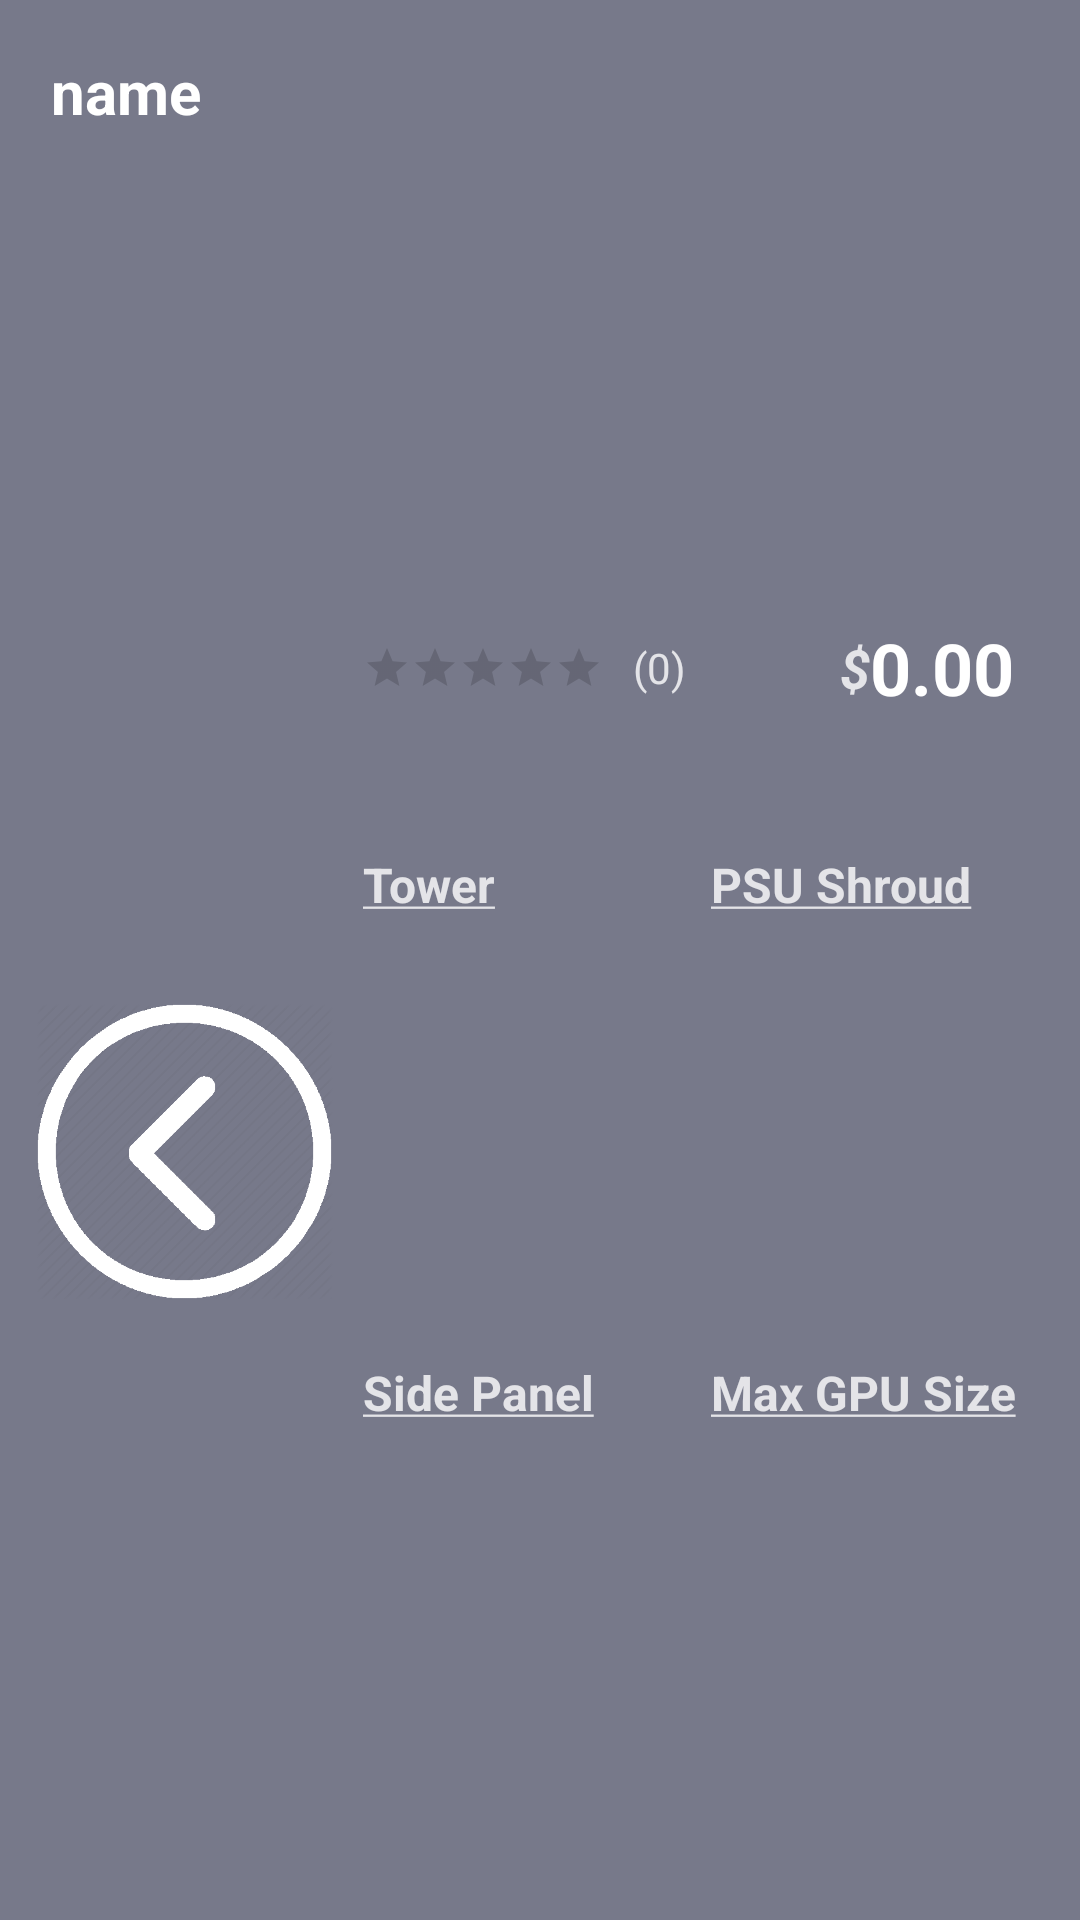

Icon click points for this 1080 x 1920 phone screenshot, format (x=x, y=y):
back: (x=184, y=1151)
